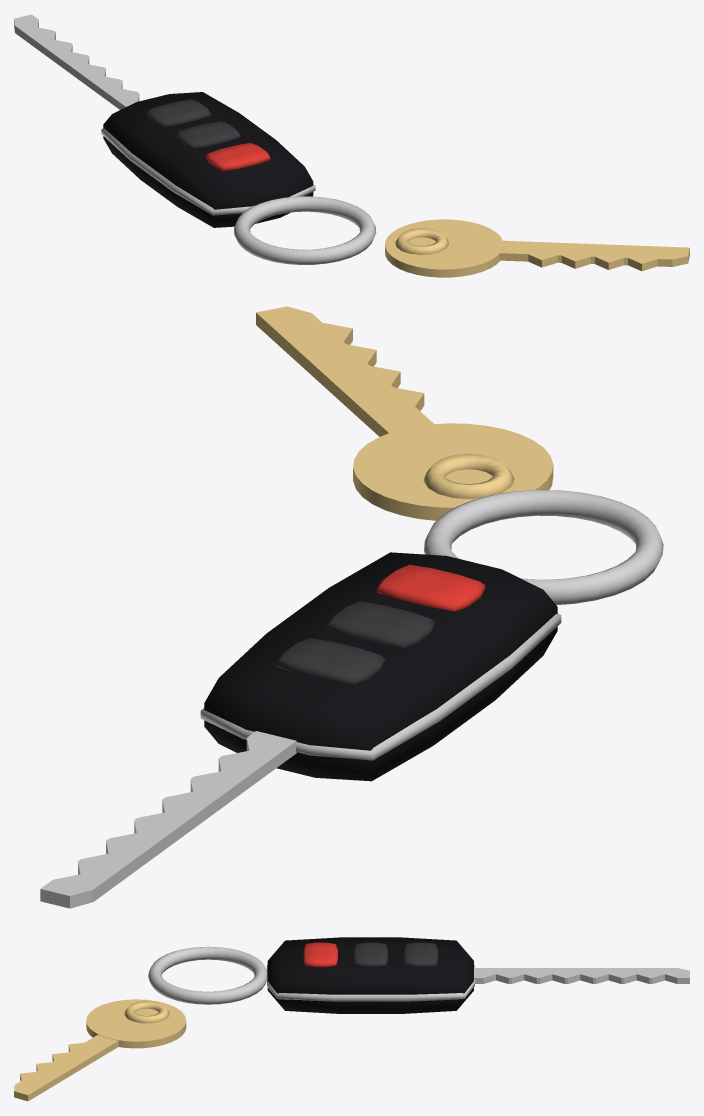
File: keys.glb
3 renders of one model, top to bottom at view 1: azimuth 30°, elevation 25°; view 2: azimuth 150°, elevation 25°; view 3: azimuth 270°, elevation 25°, orthographic. The views are drawn at different scales.
Parts seen in each view (by area): view 1: keysmesh, housekey; view 2: keysmesh, housekey; view 3: keysmesh, housekey.
Boxes of the visible parts, bbox=[...] form: keysmesh: bbox=[14, 14, 376, 264]; housekey: bbox=[385, 219, 689, 277]; keysmesh: bbox=[40, 490, 663, 908]; housekey: bbox=[256, 306, 553, 520]; keysmesh: bbox=[148, 937, 689, 1013]; housekey: bbox=[14, 999, 186, 1101].
Size of the model in its own units: 0.1056 by 0.0155 by 0.2161.
